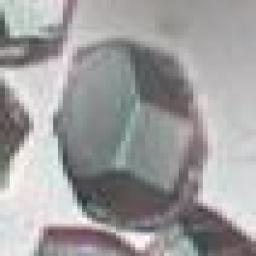crystals: (44, 37, 215, 236)
